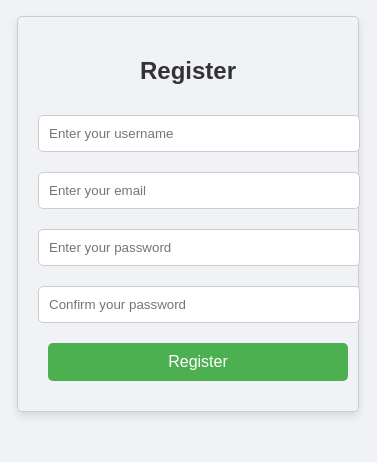
it: shows backend error message on failed registration
Type "testuser" into the field with placeholder "Enter your username" at x=199, y=133, box [38,115,360,152]
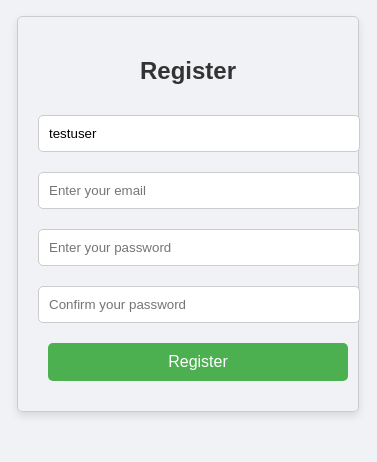
Type "existing@example.com" into the field with placeholder "Enter your email" at x=199, y=190, box [38,172,360,209]
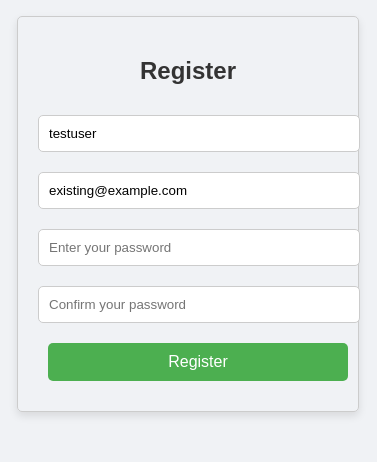
Type "password123" into the password field with placeholder "Enter your password" at x=199, y=247, box [38,229,360,266]
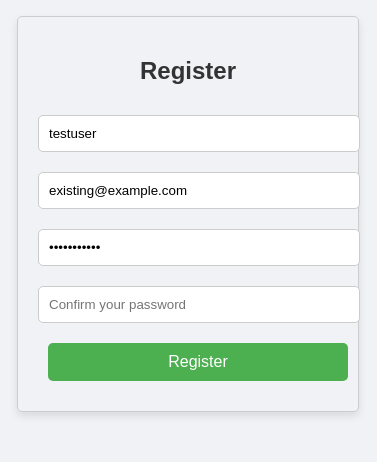
Type "password123" into the password field with placeholder "Confirm your password" at x=199, y=304, box [38,286,360,323]
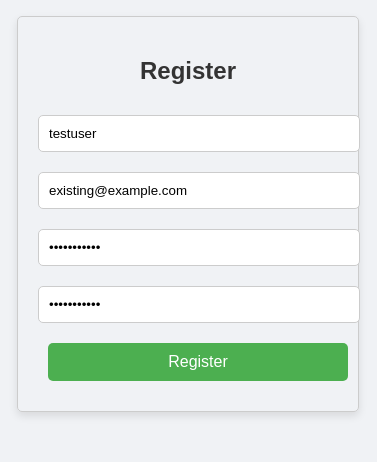
Click the button "Register" at x=198, y=362, box [48,343,348,381]
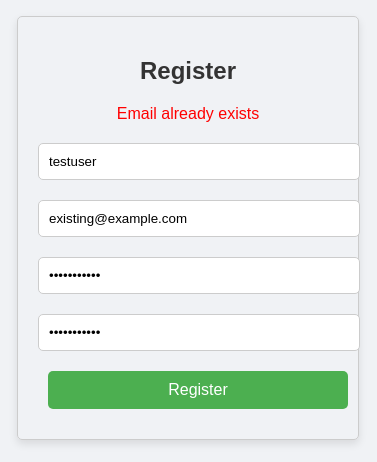
Check: the text "Email already exists" is shown, box [117,105,259,122]
